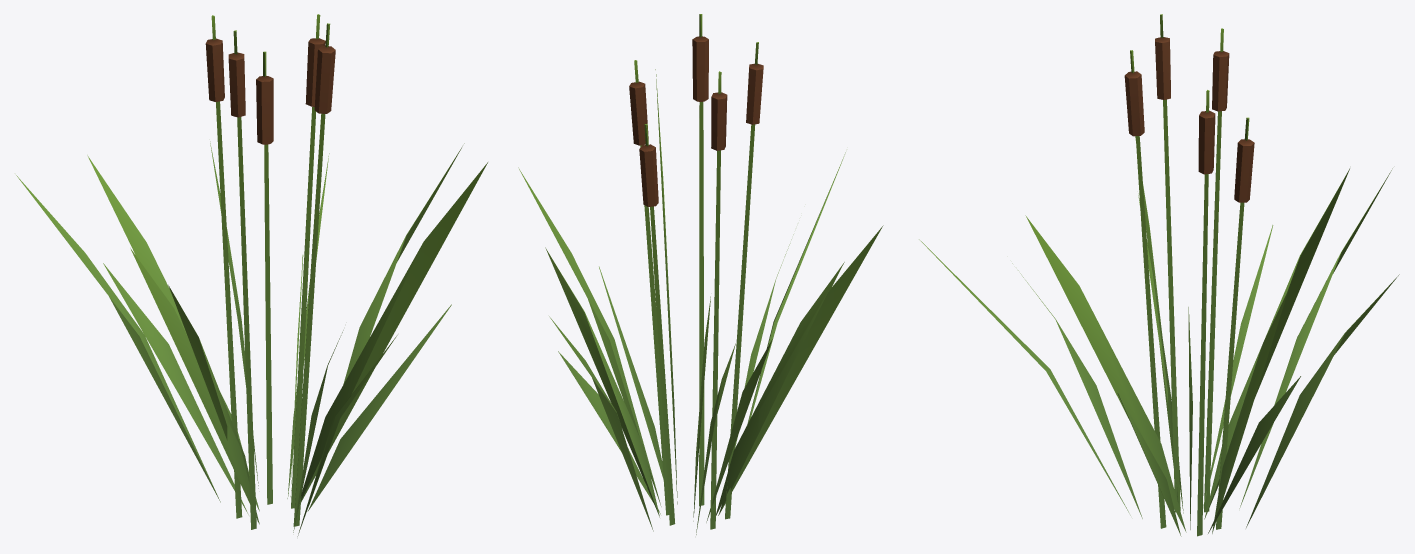
The model's file is reeds.glb.
3 views of the same model, side by side, from view 1: azimuth 30°, elevation 25°; view 2: azimuth 150°, elevation 25°; view 3: azimuth 270°, elevation 25° (orthographic). The views are drawn at different scales.
Parts seen in each view (by area): view 1: Reeds Reed, Reeds Cattail; view 2: Reeds Reed, Reeds Cattail; view 3: Reeds Reed, Reeds Cattail.
Part boxes in pixels (x1,y1,x2,y2): Reeds Reed: [16, 14, 487, 536]; Reeds Cattail: [205, 38, 335, 144]; Reeds Reed: [518, 14, 883, 534]; Reeds Cattail: [629, 36, 763, 206]; Reeds Reed: [919, 14, 1399, 536]; Reeds Cattail: [1124, 37, 1254, 202].
Size of the model in its own units: 1.31 by 1.76 by 1.6.
